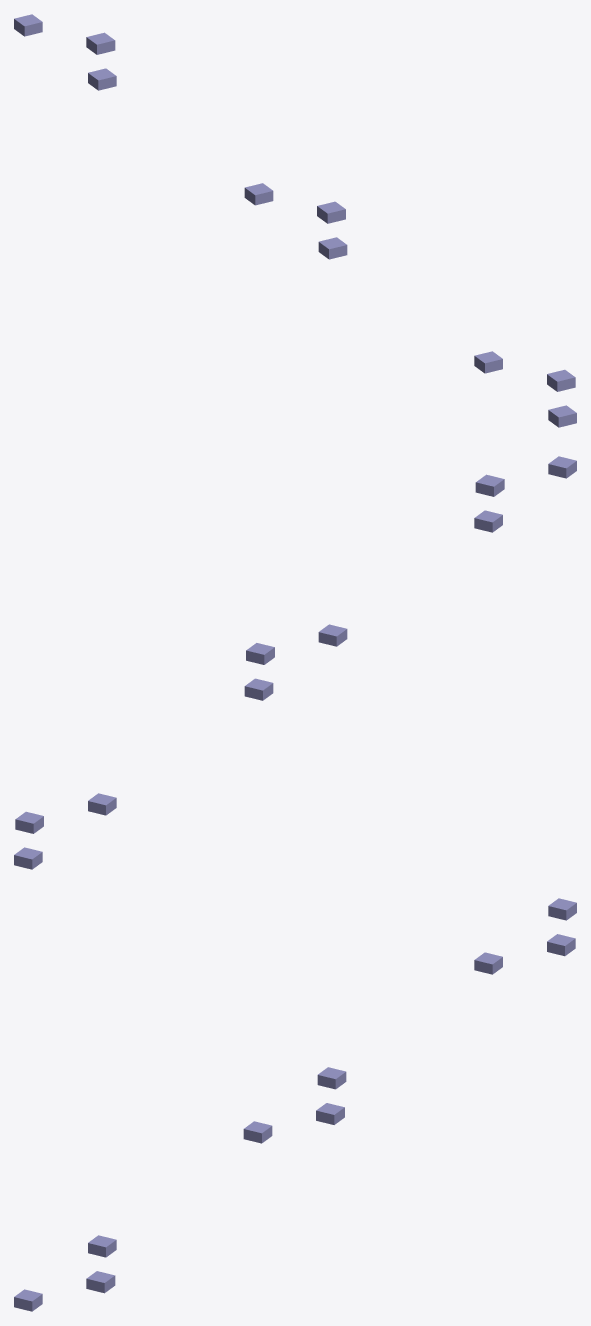
The model's file is QMagSupportLeg.gltf.
3 renders of one model, top to bottom at view 1: azimuth 30°, elevation 25°; view 2: azimuth 150°, elevation 25°; view 3: azimuth 330°, elevation 25°, orthographic.
Size of the model in its own units: 29.97 by 5.46 by 527.
